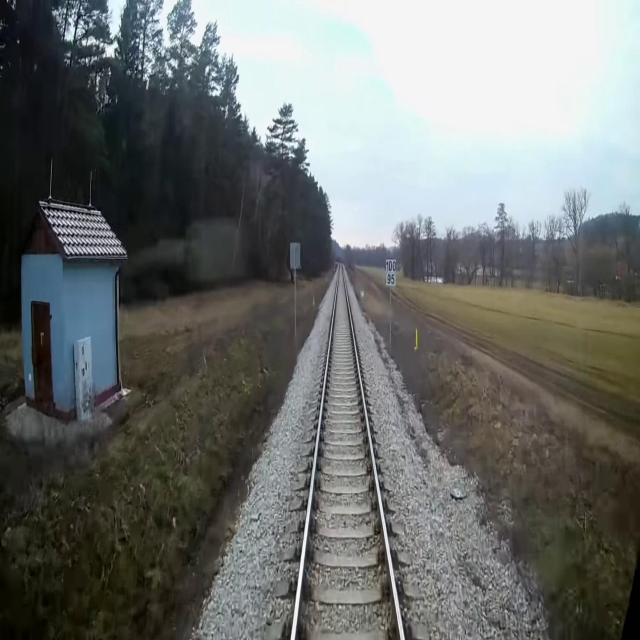rail-track: (295, 264, 400, 639)
